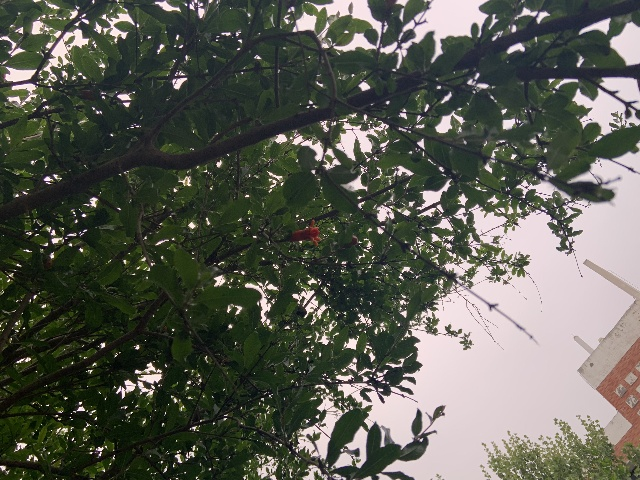flower: (290, 220, 321, 246)
